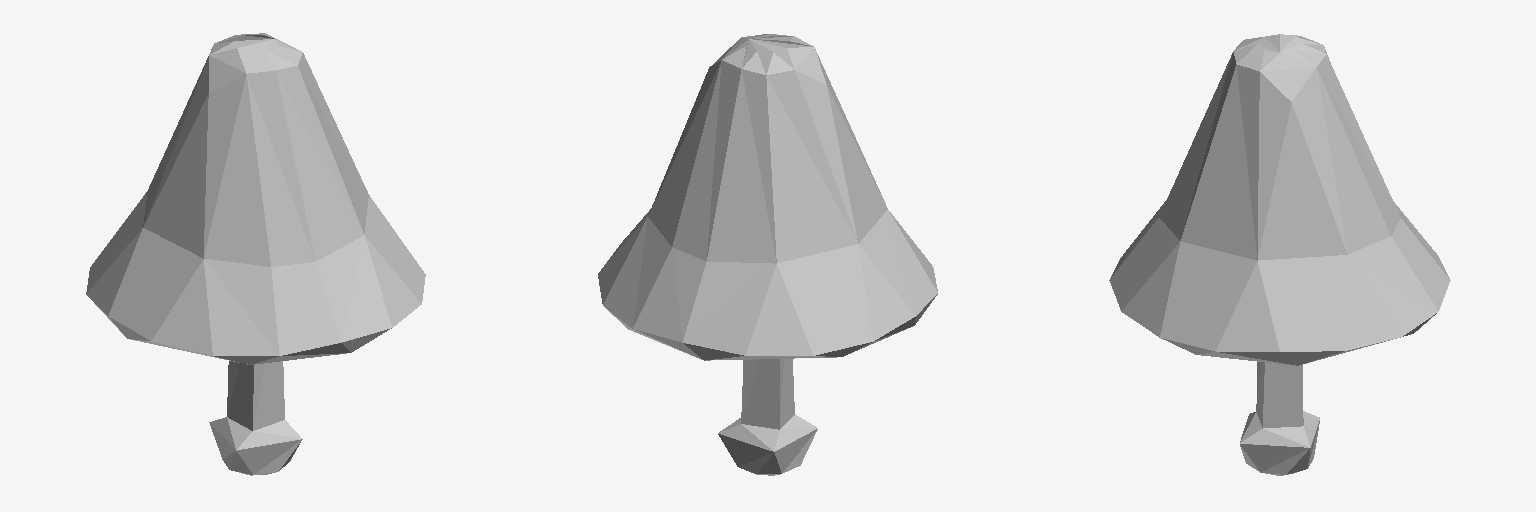
The model's file is mushroomLo.obj.
3 views of the same model, side by side, from view 1: azimuth 30°, elevation 25°; view 2: azimuth 150°, elevation 25°; view 3: azimuth 270°, elevation 25° (orthographic).
Parts seen in each view (by area): view 1: Cylinder1_Cylinder1_auv; view 2: Cylinder1_Cylinder1_auv; view 3: Cylinder1_Cylinder1_auv.
Boxes of the visible parts, x1,y1,x2,y2 form: Cylinder1_Cylinder1_auv: [86, 33, 425, 475]; Cylinder1_Cylinder1_auv: [598, 34, 937, 475]; Cylinder1_Cylinder1_auv: [1109, 34, 1450, 475].
Size of the model in its own units: 2.76 by 3.79 by 2.76.